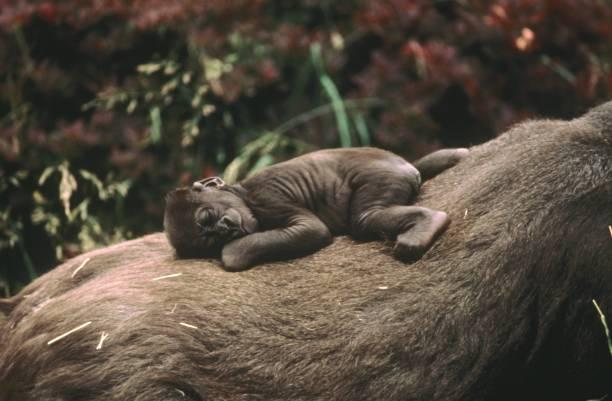goriile_montagne: (157, 144, 471, 265)
